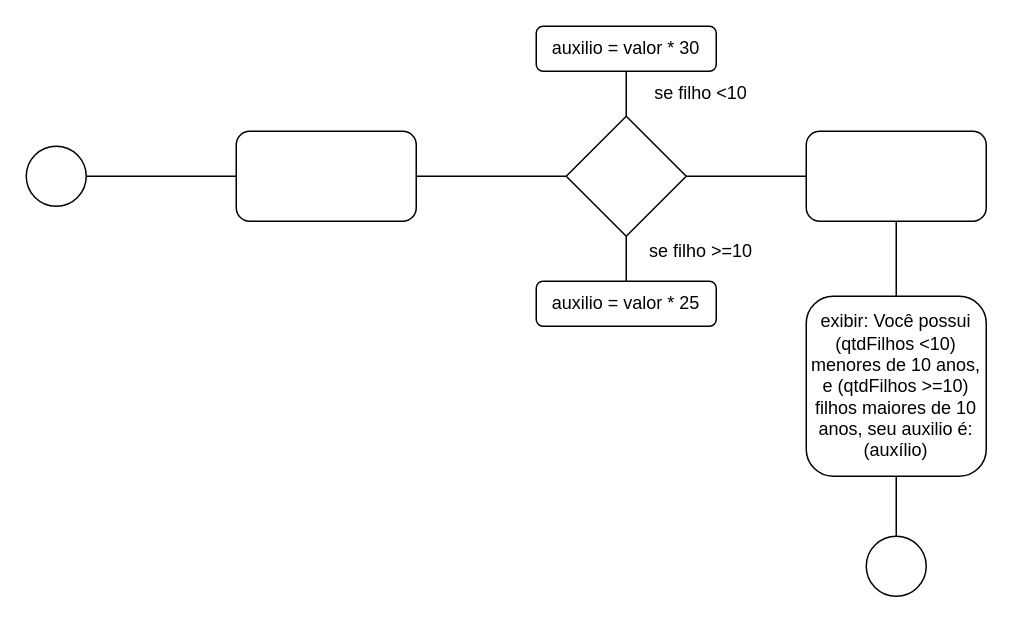
This 1013x623 diagram has some shape labels left out. Here are the shapes that lost their labels. From the top down, the box of each, then its label:
(235, 130, 416, 221): receba: filhos com mais de 10 anos e menos de 10 anos
(805, 130, 986, 221): calcular qtdFilhos < 10 e >=10
